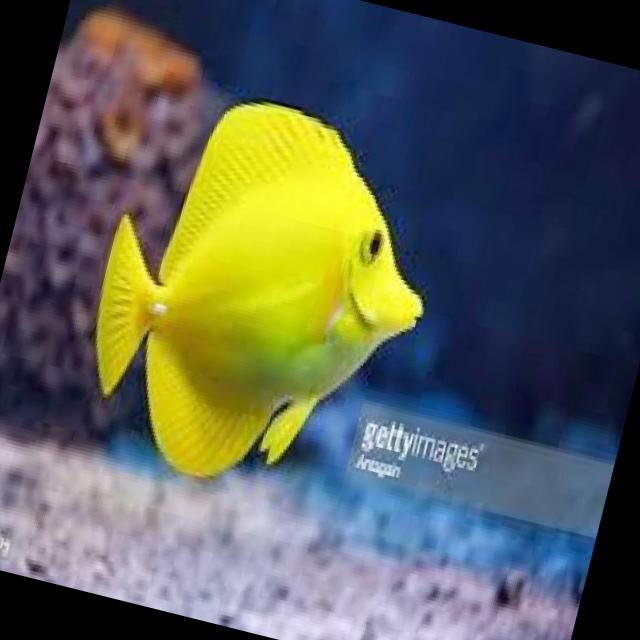TangFish: (61, 71, 466, 520)
